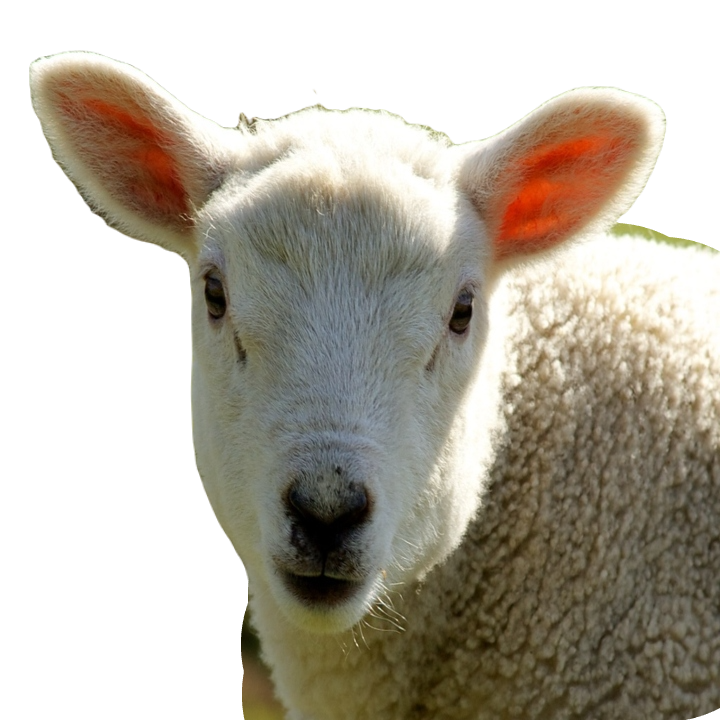Sheep: (24, 42, 719, 719)
